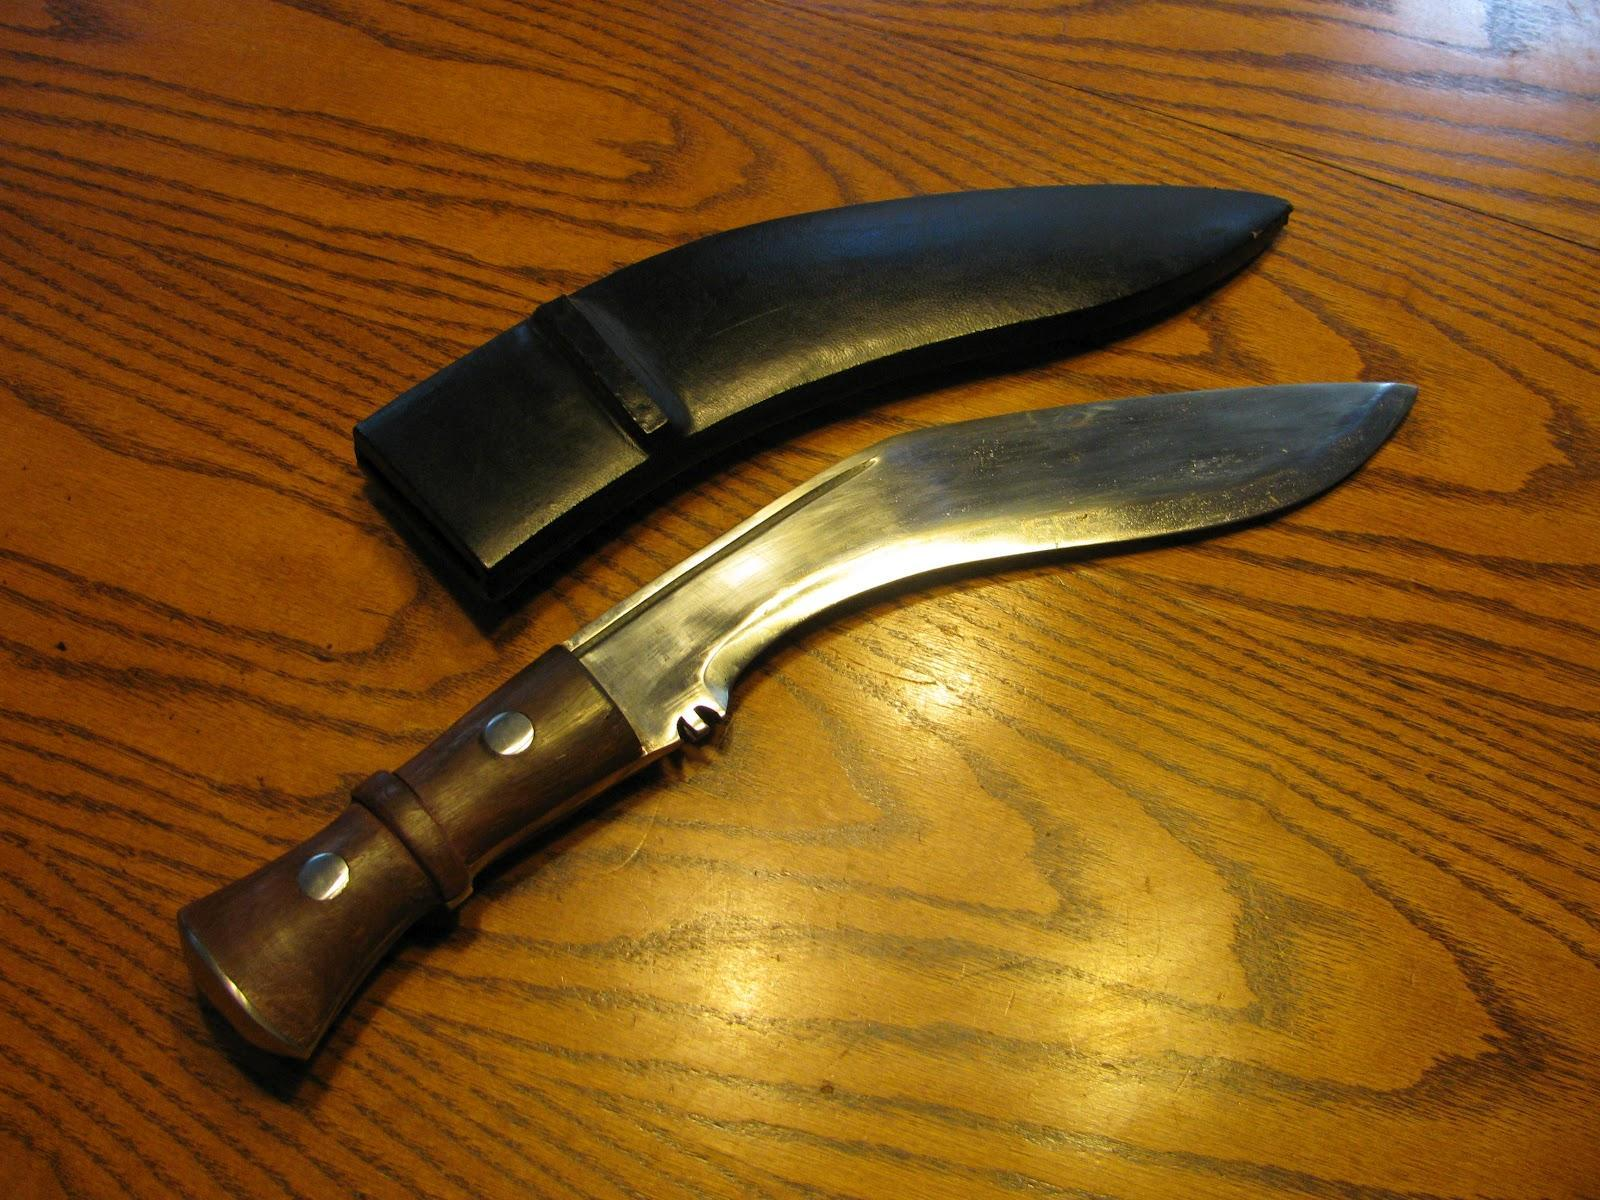facao: (180, 383, 1414, 1058)
